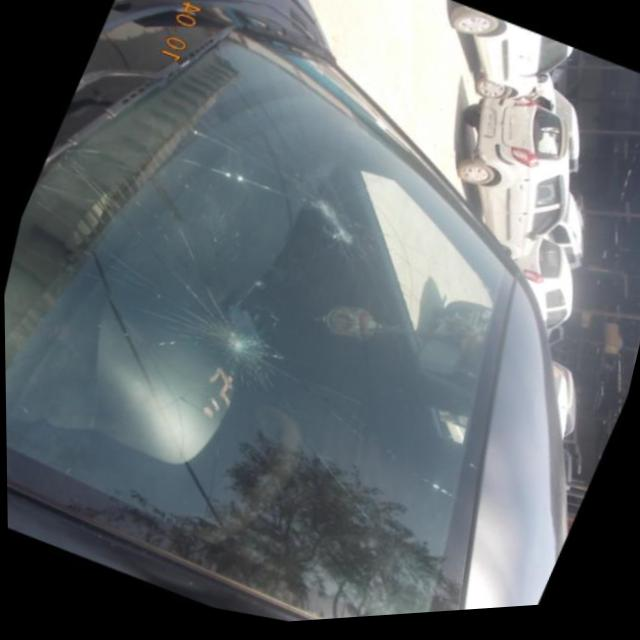Glass_Break: (168, 280, 304, 404), (266, 168, 368, 258)
